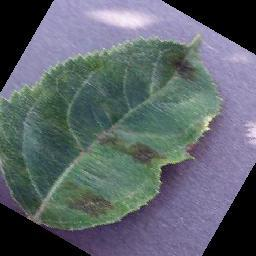apple healthy: (0, 32, 224, 232)
